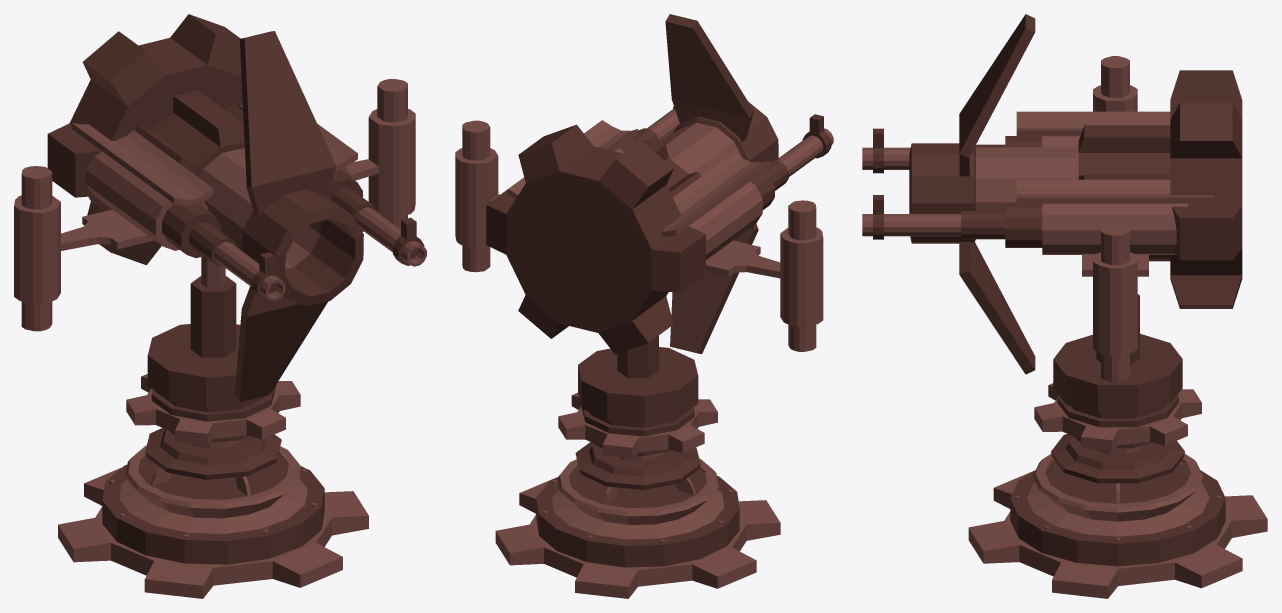
The model's file is cannon_3.glb.
3 views of the same model, side by side, from view 1: azimuth 30°, elevation 25°; view 2: azimuth 150°, elevation 25°; view 3: azimuth 270°, elevation 25° (orthographic). The views are drawn at different scales.
Visible parts, largest first — view 1: Cannon_3_Gun_Cylinder.109, Cannon_3_Base_Cylinder.103, Cannon_3_Mid_Cylinder.039; view 2: Cannon_3_Gun_Cylinder.109, Cannon_3_Base_Cylinder.103, Cannon_3_Mid_Cylinder.039; view 3: Cannon_3_Gun_Cylinder.109, Cannon_3_Base_Cylinder.103, Cannon_3_Mid_Cylinder.039.
Boxes of the visible parts, bbox=[...] form: Cannon_3_Gun_Cylinder.109: bbox=[14, 14, 426, 401]; Cannon_3_Base_Cylinder.103: bbox=[58, 445, 368, 598]; Cannon_3_Mid_Cylinder.039: bbox=[126, 256, 300, 479]; Cannon_3_Gun_Cylinder.109: bbox=[455, 14, 833, 354]; Cannon_3_Base_Cylinder.103: bbox=[495, 458, 780, 598]; Cannon_3_Mid_Cylinder.039: bbox=[558, 335, 717, 489]; Cannon_3_Gun_Cylinder.109: bbox=[862, 14, 1242, 382]; Cannon_3_Base_Cylinder.103: bbox=[968, 454, 1267, 598]; Cannon_3_Mid_Cylinder.039: bbox=[1034, 294, 1201, 483].
Size of the model in its own units: 2.02 by 2.62 by 1.87.
